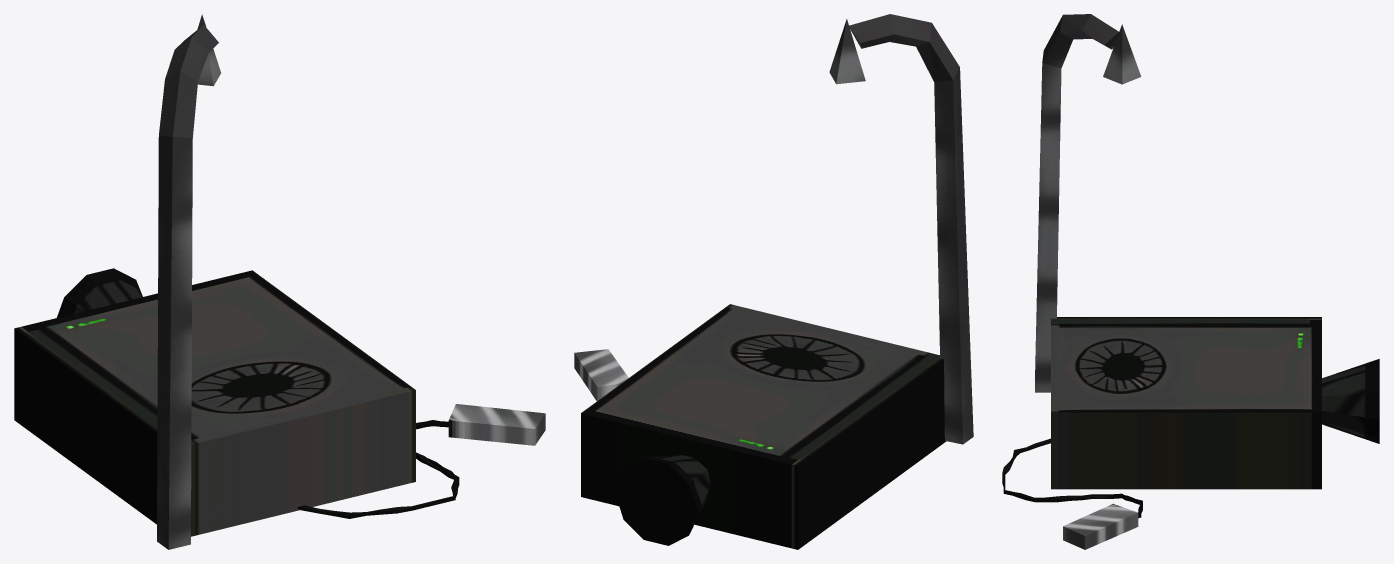
File: Projector.glb
3 views of the same model, side by side, from view 1: azimuth 30°, elevation 25°; view 2: azimuth 150°, elevation 25°; view 3: azimuth 270°, elevation 25° (orthographic). The views are drawn at different scales.
Parts seen in each view (by area): view 1: Projector; view 2: Projector; view 3: Projector.
Part boxes in pixels (x1,y1,x2,y2): Projector: (14, 14, 545, 549); Projector: (574, 14, 973, 549); Projector: (1002, 14, 1379, 549).
Size of the model in its own units: 128 by 143 by 124.
1 material, 1 textured.
